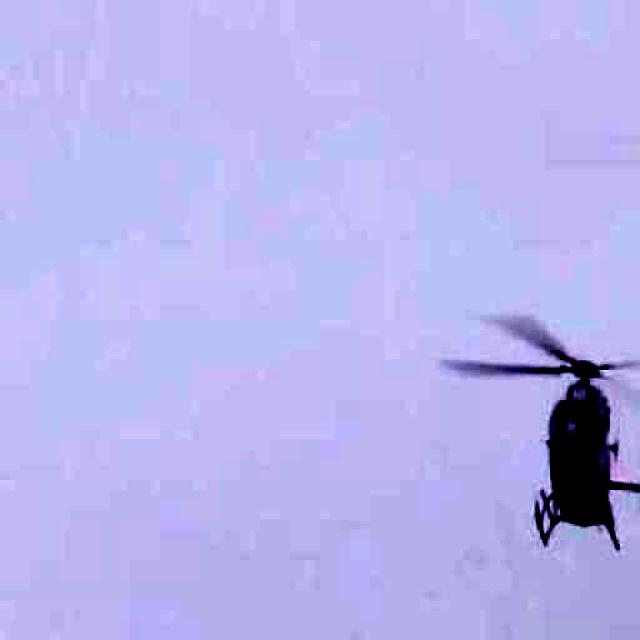drone: (404, 276, 640, 572)
